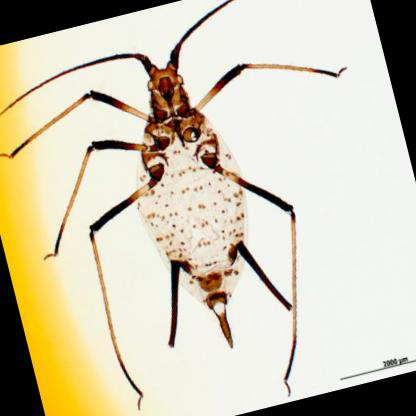uroleucon compositae: (88, 29, 294, 349)
